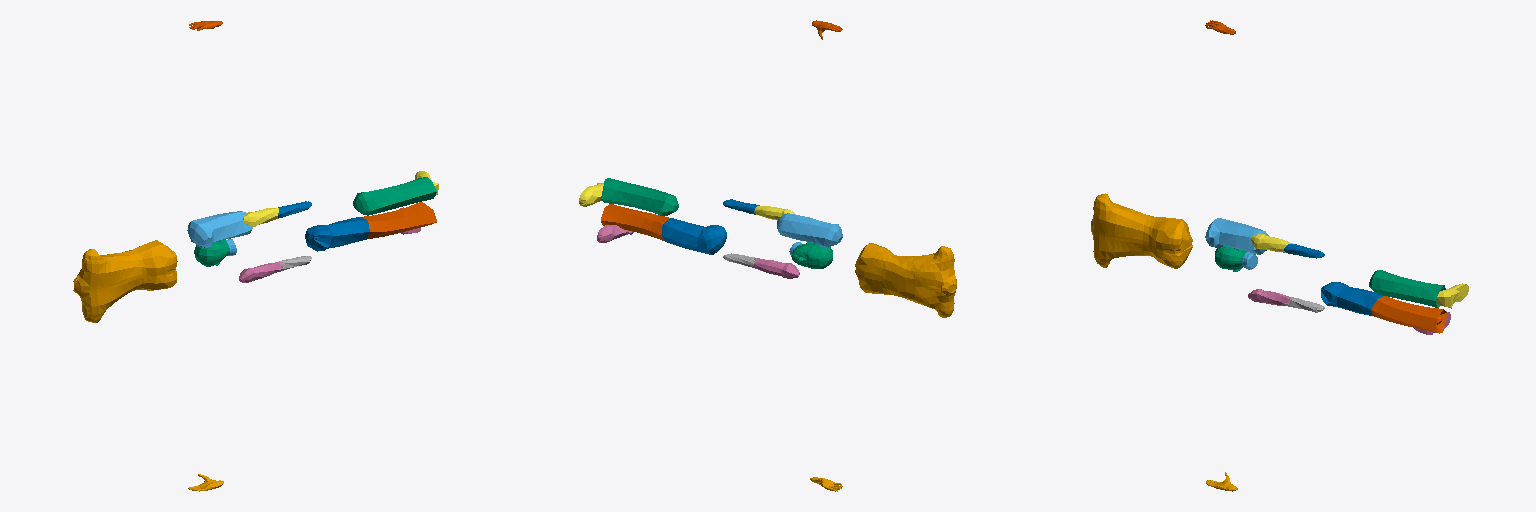
The robot description file, URDF, robot "Human":
<?xml version="1.0"?>
<robot name="Human">
  <!-- <^^^^^^^^^^^^> -->
  <!-- <   Links    > -->
  <!-- <vvvvvvvvvvvv> -->
  <link name="Body" >
    <visual>
      <geometry>
        <mesh filename="package://skeleton_description/model/male/Body.dae"/>
      </geometry>
      <origin xyz="0 0 0.0" rpy="0 -1.57079632679 0" />
      <!--<origin xyz="0 0 1.1" rpy="0 0 0" />-->
    </visual>
  </link>

  <link name="Neck" >
    <visual>
      <geometry>
        <mesh filename="package://skeleton_description/model/male/Neck.dae"/>
      </geometry>
      <origin xyz="0 0 0.0" rpy="0 -1.57079632679 0" />
    </visual>
  </link>

  <link name="Head" >
    <visual>
      <geometry>
        <mesh filename="package://skeleton_description/model/male/Head.dae"/>
      </geometry>
      <origin xyz="0 0 0.0" rpy="0 -1.57079632679 0" />
    </visual>
  </link>

  <link name="RightArm1" >
    <visual>
      <geometry>
        <mesh filename="package://skeleton_description/model/male/RightArm1.dae"/>
      </geometry>
			<!--<origin xyz="0 0 0.0" rpy="0 -1.57079632679 0" />-->
			<origin xyz="0 0 0.0" rpy="0 0 0" />
    </visual>
  </link>

  <link name="RightArm2" >
    <visual>
      <geometry>
        <mesh filename="package://skeleton_description/model/male/RightArm2.dae"/>
      </geometry>
      <origin xyz="0 0 0.0" rpy="0 0 0" />
    </visual>
  </link>

  <link name="RightHand1" >
    <visual>
      <geometry>
        <mesh filename="package://skeleton_description/model/male/RightHand1.dae"/>
      </geometry>
			<!--<origin xyz="0 0 0.0" rpy="0 -1.57079632679 0" />-->
			<origin xyz="0 0 0.0" rpy="0 0 0" />
    </visual>
  </link>

  <link name="LeftArm1" >
    <visual>
      <geometry>
        <mesh filename="package://skeleton_description/model/male/LeftArm1.dae"/>
      </geometry>
			<origin xyz="0 0 0.0" rpy="0 3.14159265359 0" />
    </visual>
  </link>

  <link name="LeftArm2" >
    <visual>
      <geometry>
        <mesh filename="package://skeleton_description/model/male/LeftArm2.dae"/>
      </geometry>
			<origin xyz="0 0 0.0" rpy="0 3.14159265359 0" />
    </visual>
  </link>

  <link name="LeftHand1" >
    <visual>
      <geometry>
        <mesh filename="package://skeleton_description/model/male/LeftHand1.dae"/>
      </geometry>
			<origin xyz="0 0 0.0" rpy="0 3.14159265359 0" />
    </visual>
  </link>

  <link name="RightLeg1" >
    <visual>
      <geometry>
        <mesh filename="package://skeleton_description/model/male/RightLeg1.dae"/>
      </geometry>
      <origin xyz="0 0 0.0" rpy="0 -1.57079632679 0" />
    </visual>
  </link>

  <link name="RightLeg2" >
    <visual>
      <geometry>
        <mesh filename="package://skeleton_description/model/male/RightLeg2.dae"/>
      </geometry>
      <origin xyz="0 0 0.0" rpy="0 -1.57079632679 0" />
    </visual>
  </link>

  <link name="RightFoot" >
    <visual>
      <geometry>
        <mesh filename="package://skeleton_description/model/male/RightFoot.dae"/>
      </geometry>
      <origin xyz="0 0 0.0" rpy="0 -1.57079632679 0" />
    </visual>
  </link>

  <link name="LeftLeg1" >
    <visual>
      <geometry>
        <mesh filename="package://skeleton_description/model/male/LeftLeg1.dae"/>
      </geometry>
      <origin xyz="0 0 0.0" rpy="0 -1.57079632679 0" />
    </visual>
  </link>

  <link name="LeftLeg2" >
    <visual>
      <geometry>
        <mesh filename="package://skeleton_description/model/male/LeftLeg2.dae"/>
      </geometry>
      <origin xyz="0 0 0.0" rpy="0 -1.57079632679 0" />
    </visual>
  </link>

  <link name="LeftFoot" >
    <visual>
      <geometry>
        <mesh filename="package://skeleton_description/model/male/LeftFoot.dae"/>
      </geometry>
      <origin xyz="0 0 0.0" rpy="0 -1.57079632679 0" />
    </visual>
  </link>


  <!-- <^^^^^^^^^^^^^^^^^^^^^^^^^^^^^^^^^^^^^^^^> -->
  <!-- <   Virtual Links for multi DoF joints   > -->
  <!-- <vvvvvvvvvvvvvvvvvvvvvvvvvvvvvvvvvvvvvvvv> -->
  <link name="RightShoulderVirtual1"/>
  <link name="RightShoulderVirtual2"/>
  <link name="RightElbowVirtual"/>
  <link name="LeftShoulderVirtual1"/>
  <link name="LeftShoulderVirtual2"/>
  <link name="LeftElbowVirtual"/>
  <link name="RightHipVirtual1"/>
  <link name="RightHipVirtual2"/>
  <link name="RightKneeVirtual"/>
  <link name="LeftHipVirtual1"/>
  <link name="LeftHipVirtual2"/>
  <link name="LeftKneeVirtual"/>
  <link name="RightWristVirtual"/>
  <link name="LeftWristVirtual"/>
  <link name="NeckVirtual"/>


  <!-- <^^^^^^^^^^^^> -->
  <!-- <   Joints   > -->
  <!-- <vvvvvvvvvvvvv -->
  <!--
  <joint name="WAIST_JOINT1" type="continuous">
    <parent link="Neck"/>
    <child link="Head"/>
    <origin xyz="0 0 0" rpy="0 0 0"/>
    <axis xyz="0 1 0"/>
  </joint>

  <joint name="WAIST_JOINT2" type="continuous">
    <parent link="Neck"/>
    <child link="Head"/>
    <origin xyz="0 0 0" rpy="0 0 0"/>
    <axis xyz="0 1 0"/>
  </joint>
  -->

  <!-- Right Shoulder -->
  <joint name="R_ARM_JOINT1" type="continuous">
    <axis xyz="0.0 0.0 1.0"/>
    <origin xyz="-0.29 0 0.185" rpy="0 0 0" />
    <parent link="Body"/>
    <child link="RightShoulderVirtual1"/>
  </joint>

  <joint name="R_ARM_JOINT2" type="continuous">
    <axis xyz="0.0 1.0 0.0"/>
    <origin xyz="-0.0 0.0 0.0" rpy="0 0 0" />
    <parent link="RightShoulderVirtual1"/>
    <child link="RightShoulderVirtual2"/>
  </joint>

  <joint name="R_ARM_JOINT3" type="continuous">
    <axis xyz="1.0 0.0 0.0"/>
    <parent link="RightShoulderVirtual2"/>
    <child link="RightArm1"/>
  </joint>

  <!-- Right Elbow -->
  <joint name="R_ARM_JOINT4" type="continuous">
    <axis xyz="0.0 0.0 1.0"/>
    <origin xyz="0.215 0 0" rpy="0 0 0" />
    <parent link="RightArm1"/>
    <child link="RightElbowVirtual"/>
  </joint>

  <joint name="R_ARM_JOINT5" type="continuous">
    <parent link="RightElbowVirtual"/>
    <child link="RightArm2"/>
  </joint>

  <!-- Right Wrist -->
  <joint name="R_ARM_JOINT6" type="continuous">
    <origin xyz="0.22 0 0.0" rpy="0 0 0" />
    <parent link="RightArm2"/>
    <child link="RightWristVirtual"/>
  </joint>

  <joint name="R_ARM_JOINT7" type="continuous">
    <parent link="RightWristVirtual"/>
    <child link="RightHand1"/>
  </joint>

  <!--
  <joint name="R_ARM_JOINT8" type="continuous">
    <parent link="RightWristVirtual"/>
    <child link="RightHand1"/>
  </joint>
  -->

  <!-- Left Shoulder -->
  <joint name="L_ARM_JOINT1" type="continuous">
    <axis xyz="0.0 0.0 1.0"/>
    <origin xyz="-0.29 0 -0.185" rpy="0.0 0.0 0.0" />
    <parent link="Body"/>
    <child link="LeftShoulderVirtual1"/>
  </joint>

  <joint name="L_ARM_JOINT2" type="continuous">
    <axis xyz="0.0 1.0 0.0"/>
    <!--<origin xyz="0.0 0.0 0.0" rpy="0 0 0" />-->
    <parent link="LeftShoulderVirtual1"/>
    <child link="LeftShoulderVirtual2"/>
  </joint>

  <joint name="L_ARM_JOINT3" type="continuous">
    <axis xyz="1.0 0.0 0.0"/>
    <parent link="LeftShoulderVirtual2"/>
    <child link="LeftArm1"/>
  </joint>

  <!-- Left Elbow -->
  <joint name="L_ARM_JOINT4" type="continuous">
    <axis xyz="0.0 0.0 1.0"/>
    <origin xyz="0.215 0 0" rpy="0 0 0" />
    <parent link="LeftArm1"/>
    <child link="LeftElbowVirtual"/>
  </joint>

  <joint name="L_ARM_JOINT5" type="continuous">
    <parent link="LeftElbowVirtual"/>
    <child link="LeftArm2"/>
  </joint>

  <!-- Left Wrist -->
  <joint name="L_ARM_JOINT6" type="continuous">
    <origin xyz="0.22 0 0.0" rpy="0 0 0" />
    <parent link="LeftArm2"/>
    <child link="LeftWristVirtual"/>
  </joint>

  <joint name="L_ARM_JOINT7" type="continuous">
    <parent link="LeftWristVirtual"/>
    <child link="LeftHand1"/>
  </joint>

  <!--
  <joint name="L_ARM_JOINT8" type="continuous">
    <parent link="LeftWristVirtual"/>
    <child link="LeftHand1"/>
  </joint>
  -->

  <!-- Neck -->
  <joint name="NECK_JOINT0" type="continuous">
    <origin xyz="-0.35 0 0" rpy="0 0 0" />
    <parent link="Body"/>
    <child link="Neck"/>
  </joint>

  <joint name="NECK_JOINT1" type="continuous">
    <origin xyz="-0.03 0.04 0" rpy="0 0 0" />
    <parent link="Neck"/>
    <child link="NeckVirtual"/>
  </joint>

  <joint name="NECK_JOINT2" type="continuous">
    <parent link="NeckVirtual"/>
    <child link="Head"/>
  </joint>

  <!-- Right Hip -->
  <joint name="R_LEG_JOINT1" type="continuous">
    <axis xyz="0.0 0.0 1.0"/>
    <origin xyz="0.25 0 0.072" rpy="0 0 0" />
    <parent link="Body"/>
    <child link="RightHipVirtual1"/>
  </joint>

  <joint name="R_LEG_JOINT2" type="continuous">
    <axis xyz="0.0 1.0 0.0"/>
    <parent link="RightHipVirtual1"/>
    <child link="RightHipVirtual2"/>
  </joint>

  <joint name="R_LEG_JOINT3" type="continuous">
    <axis xyz="1.0 0.0 0.0"/>
    <parent link="RightHipVirtual2"/>
    <child link="RightLeg1"/>
  </joint>

  <!-- Right Knee -->
  <joint name="R_LEG_JOINT4" type="continuous">
    <axis xyz="0.0 0.0 1.0"/>
    <origin xyz="0.3 0 0.0" rpy="0 0 0" />
    <parent link="RightLeg1"/>
    <child link="RightKneeVirtual"/>
  </joint>

  <joint name="R_LEG_JOINT5" type="continuous">
    <parent link="RightKneeVirtual"/>
    <child link="RightLeg2"/>
  </joint>

  <!-- Right Ankle -->
  <joint name="R_LEG_JOINT6" type="continuous">
    <origin xyz="0.42 0 0.0" rpy="0 0 0" />
    <parent link="RightLeg2"/>
    <child link="RightFoot"/>
  </joint>

  <!-- Left Hip -->
  <joint name="L_LEG_JOINT1" type="continuous">
    <axis xyz="0.0 0.0 1.0"/>
    <origin xyz="0.25 0 -0.072" rpy="0 0 0" />
    <parent link="Body"/>
    <child link="LeftHipVirtual1"/>
  </joint>

  <joint name="L_LEG_JOINT2" type="continuous">
    <axis xyz="0.0 1.0 0.0"/>
    <parent link="LeftHipVirtual1"/>
    <child link="LeftHipVirtual2"/>
  </joint>

  <joint name="L_LEG_JOINT3" type="continuous">
    <axis xyz="1.0 0.0 0.0"/>
    <parent link="LeftHipVirtual2"/>
    <child link="LeftLeg1"/>
  </joint>

  <!-- Left Knee -->
  <joint name="L_LEG_JOINT4" type="continuous">
    <axis xyz="0.0 0.0 1.0"/>
    <origin xyz="0.3 0 0.0" rpy="0 0 0" />
    <parent link="LeftLeg1"/>
    <child link="LeftKneeVirtual"/>
  </joint>

  <joint name="L_LEG_JOINT5" type="continuous">
    <parent link="LeftKneeVirtual"/>
    <child link="LeftLeg2"/>
  </joint>

  <!-- Left Ankle -->
  <joint name="L_LEG_JOINT6" type="continuous">
    <origin xyz="0.42 0 0.0" rpy="0 0 0" />
    <parent link="LeftLeg2"/>
    <child link="LeftFoot"/>
  </joint>


</robot>

--- What the picture shows (computed from the rendered views, not written in the file) ---
The picture shows the robot from 3 angles, left to right: view 1: azimuth 30°, elevation 25°; view 2: azimuth 150°, elevation 25°; view 3: azimuth 330°, elevation 25°; orthographic projection.
Model Human with 30 links and 29 joints (29 continuous), rooted at Body, posed every joint at zero.
Visible links, largest first — view 1: Body, RightLeg2, LeftLeg2, RightLeg1, LeftLeg1, Head; view 2: Body, RightLeg2, LeftLeg1, RightLeg1, LeftLeg2, Head, LeftArm1; view 3: Body, LeftLeg2, RightLeg2, RightLeg1, LeftLeg1, Head.
Link boxes in pixels (bbox=[...]): Body: bbox=[73, 240, 177, 322]; RightLeg2: bbox=[353, 177, 436, 215]; LeftLeg2: bbox=[363, 202, 436, 239]; RightLeg1: bbox=[187, 211, 252, 247]; LeftLeg1: bbox=[305, 217, 369, 251]; Head: bbox=[194, 240, 229, 266]; Body: bbox=[855, 243, 956, 317]; RightLeg2: bbox=[601, 178, 678, 215]; LeftLeg1: bbox=[661, 218, 726, 254]; RightLeg1: bbox=[777, 213, 842, 246]; LeftLeg2: bbox=[601, 204, 669, 240]; Head: bbox=[791, 242, 832, 268]; LeftArm1: bbox=[754, 258, 799, 278]; Body: bbox=[1091, 193, 1192, 268]; LeftLeg2: bbox=[1371, 296, 1446, 333]; RightLeg2: bbox=[1369, 270, 1445, 307]; RightLeg1: bbox=[1205, 218, 1268, 254]; LeftLeg1: bbox=[1321, 282, 1382, 315]; Head: bbox=[1215, 246, 1255, 271].
Size in the robot's own frame: 2.6 by 0.3411 by 3.2 metres.
Meshes: 15 distinct files referenced, 15 mesh visuals loaded (15 Collada DAE).